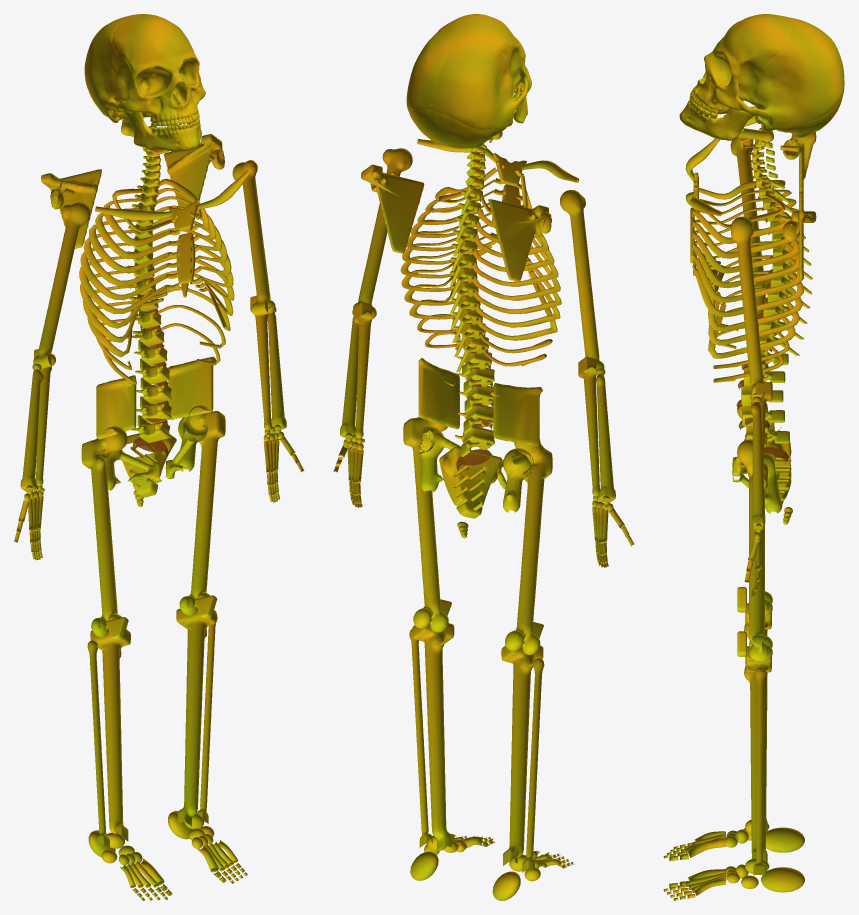
Rendered from explore-skeleton-lite.glb.
3 renders of one model, left to right at view 1: azimuth 30°, elevation 25°; view 2: azimuth 150°, elevation 25°; view 3: azimuth 270°, elevation 25°, orthographic. The views are drawn at different scales.
Visible parts, largest first — view 1: skull_cranium, femur_R, tibia_L, femur_L, hip_bone_L, tibia_R, hip_bone_R, humerus_R, humerus_L, scapula_L, scapula_R, fibula_R (+17 smaller); view 2: skull_cranium, hip_bone_R, femur_R, tibia_L, tibia_R, hip_bone_L, femur_L, scapula_R, scapula_L, humerus_R, sacrum, humerus_L (+15 smaller); view 3: skull_cranium, humerus_L, femur_L, tibia_L, fibula_L, radius_L, humerus_R, scapula_L, hip_bone_L, scapula_R, calcaneus_L, rib_L_07 (+17 smaller).
Boxes of the visible parts, x1,y1,x2,y2 form: skull_cranium: [84, 14, 205, 151]; femur_R: [81, 426, 127, 637]; tibia_L: [176, 607, 216, 826]; femur_L: [179, 405, 225, 615]; hip_bone_L: [165, 356, 215, 478]; tibia_R: [90, 629, 130, 841]; hip_bone_R: [96, 375, 161, 490]; humerus_R: [33, 202, 90, 369]; humerus_L: [232, 160, 275, 315]; scapula_L: [163, 134, 224, 207]; scapula_R: [41, 169, 101, 248]; fibula_R: [87, 640, 109, 848]; skull_cranium: [406, 14, 531, 148]; hip_bone_R: [490, 383, 542, 512]; femur_R: [505, 439, 552, 654]; tibia_L: [412, 623, 454, 850]; tibia_R: [501, 645, 543, 865]; hip_bone_L: [418, 358, 461, 492]; femur_L: [403, 417, 448, 632]; scapula_R: [488, 199, 551, 281]; scapula_L: [361, 164, 424, 253]; humerus_R: [560, 190, 604, 374]; sacrum: [439, 446, 501, 518]; humerus_L: [353, 148, 412, 319]; skull_cranium: [679, 14, 844, 140]; humerus_L: [730, 216, 765, 401]; femur_L: [737, 439, 772, 661]; tibia_L: [744, 646, 771, 861]; fibula_L: [753, 667, 766, 875]; radius_L: [750, 396, 765, 529]; humerus_R: [730, 137, 765, 291]; scapula_L: [780, 191, 816, 280]; hip_bone_L: [732, 402, 782, 513]; scapula_R: [780, 132, 816, 197]; calcaneus_L: [761, 867, 804, 892]; rib_L_07: [694, 268, 803, 317].
Size of the model in its own units: 0.6221 by 1.71 by 0.3279.
